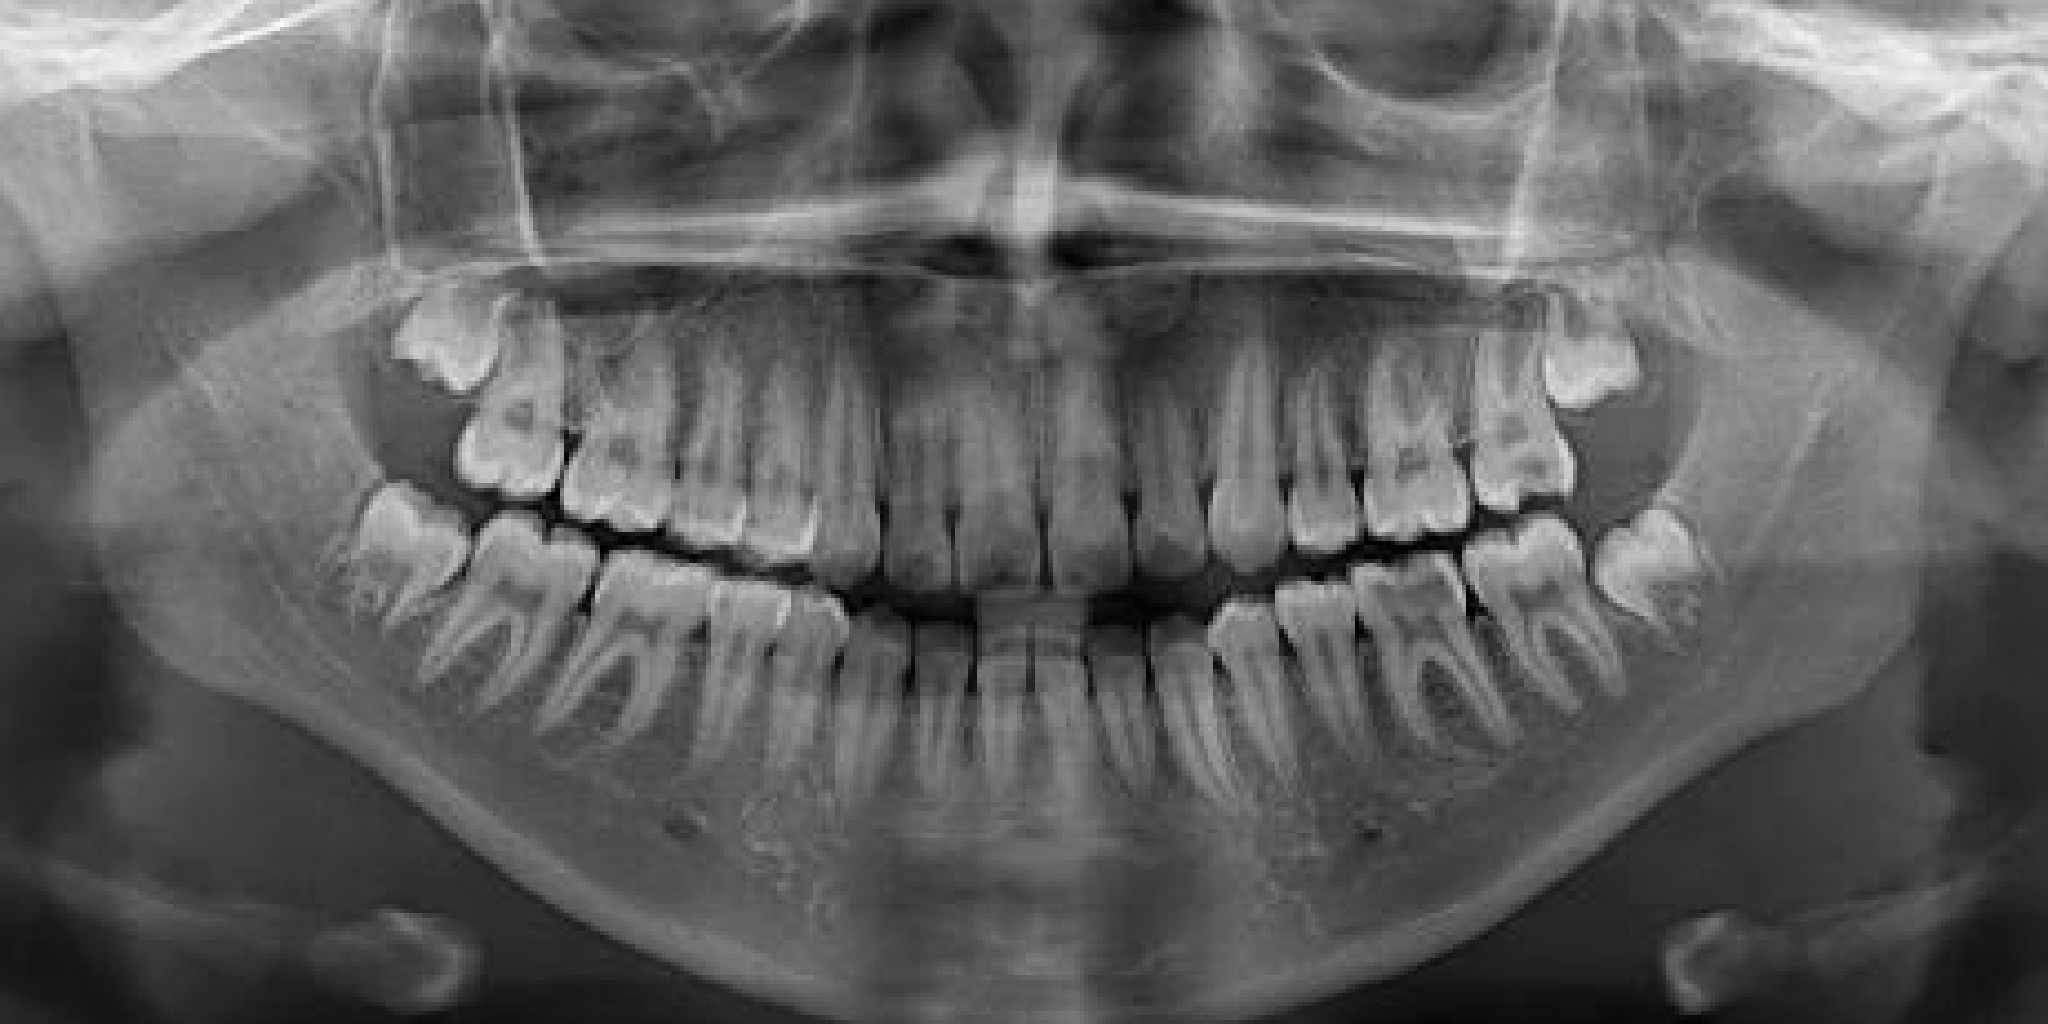Tooth: (417, 449, 807, 892), (302, 411, 683, 856), (1256, 447, 1621, 893), (1379, 414, 1738, 861), (1182, 481, 1512, 926), (1051, 522, 1354, 963), (569, 483, 872, 923), (1430, 90, 1727, 528), (1256, 187, 1548, 624), (1119, 494, 1411, 931), (648, 498, 933, 933), (1518, 311, 1797, 744), (721, 524, 1000, 957), (492, 176, 772, 609), (263, 374, 536, 805), (391, 163, 662, 594), (1371, 172, 1638, 600), (856, 238, 1115, 664), (1032, 219, 1287, 644), (953, 235, 1207, 660), (1006, 533, 1253, 953), (808, 542, 1055, 963), (805, 242, 1038, 657), (883, 549, 1110, 963), (1206, 223, 1433, 636), (603, 206, 829, 619), (1138, 219, 1358, 630), (956, 547, 1177, 957), (737, 227, 957, 637)
